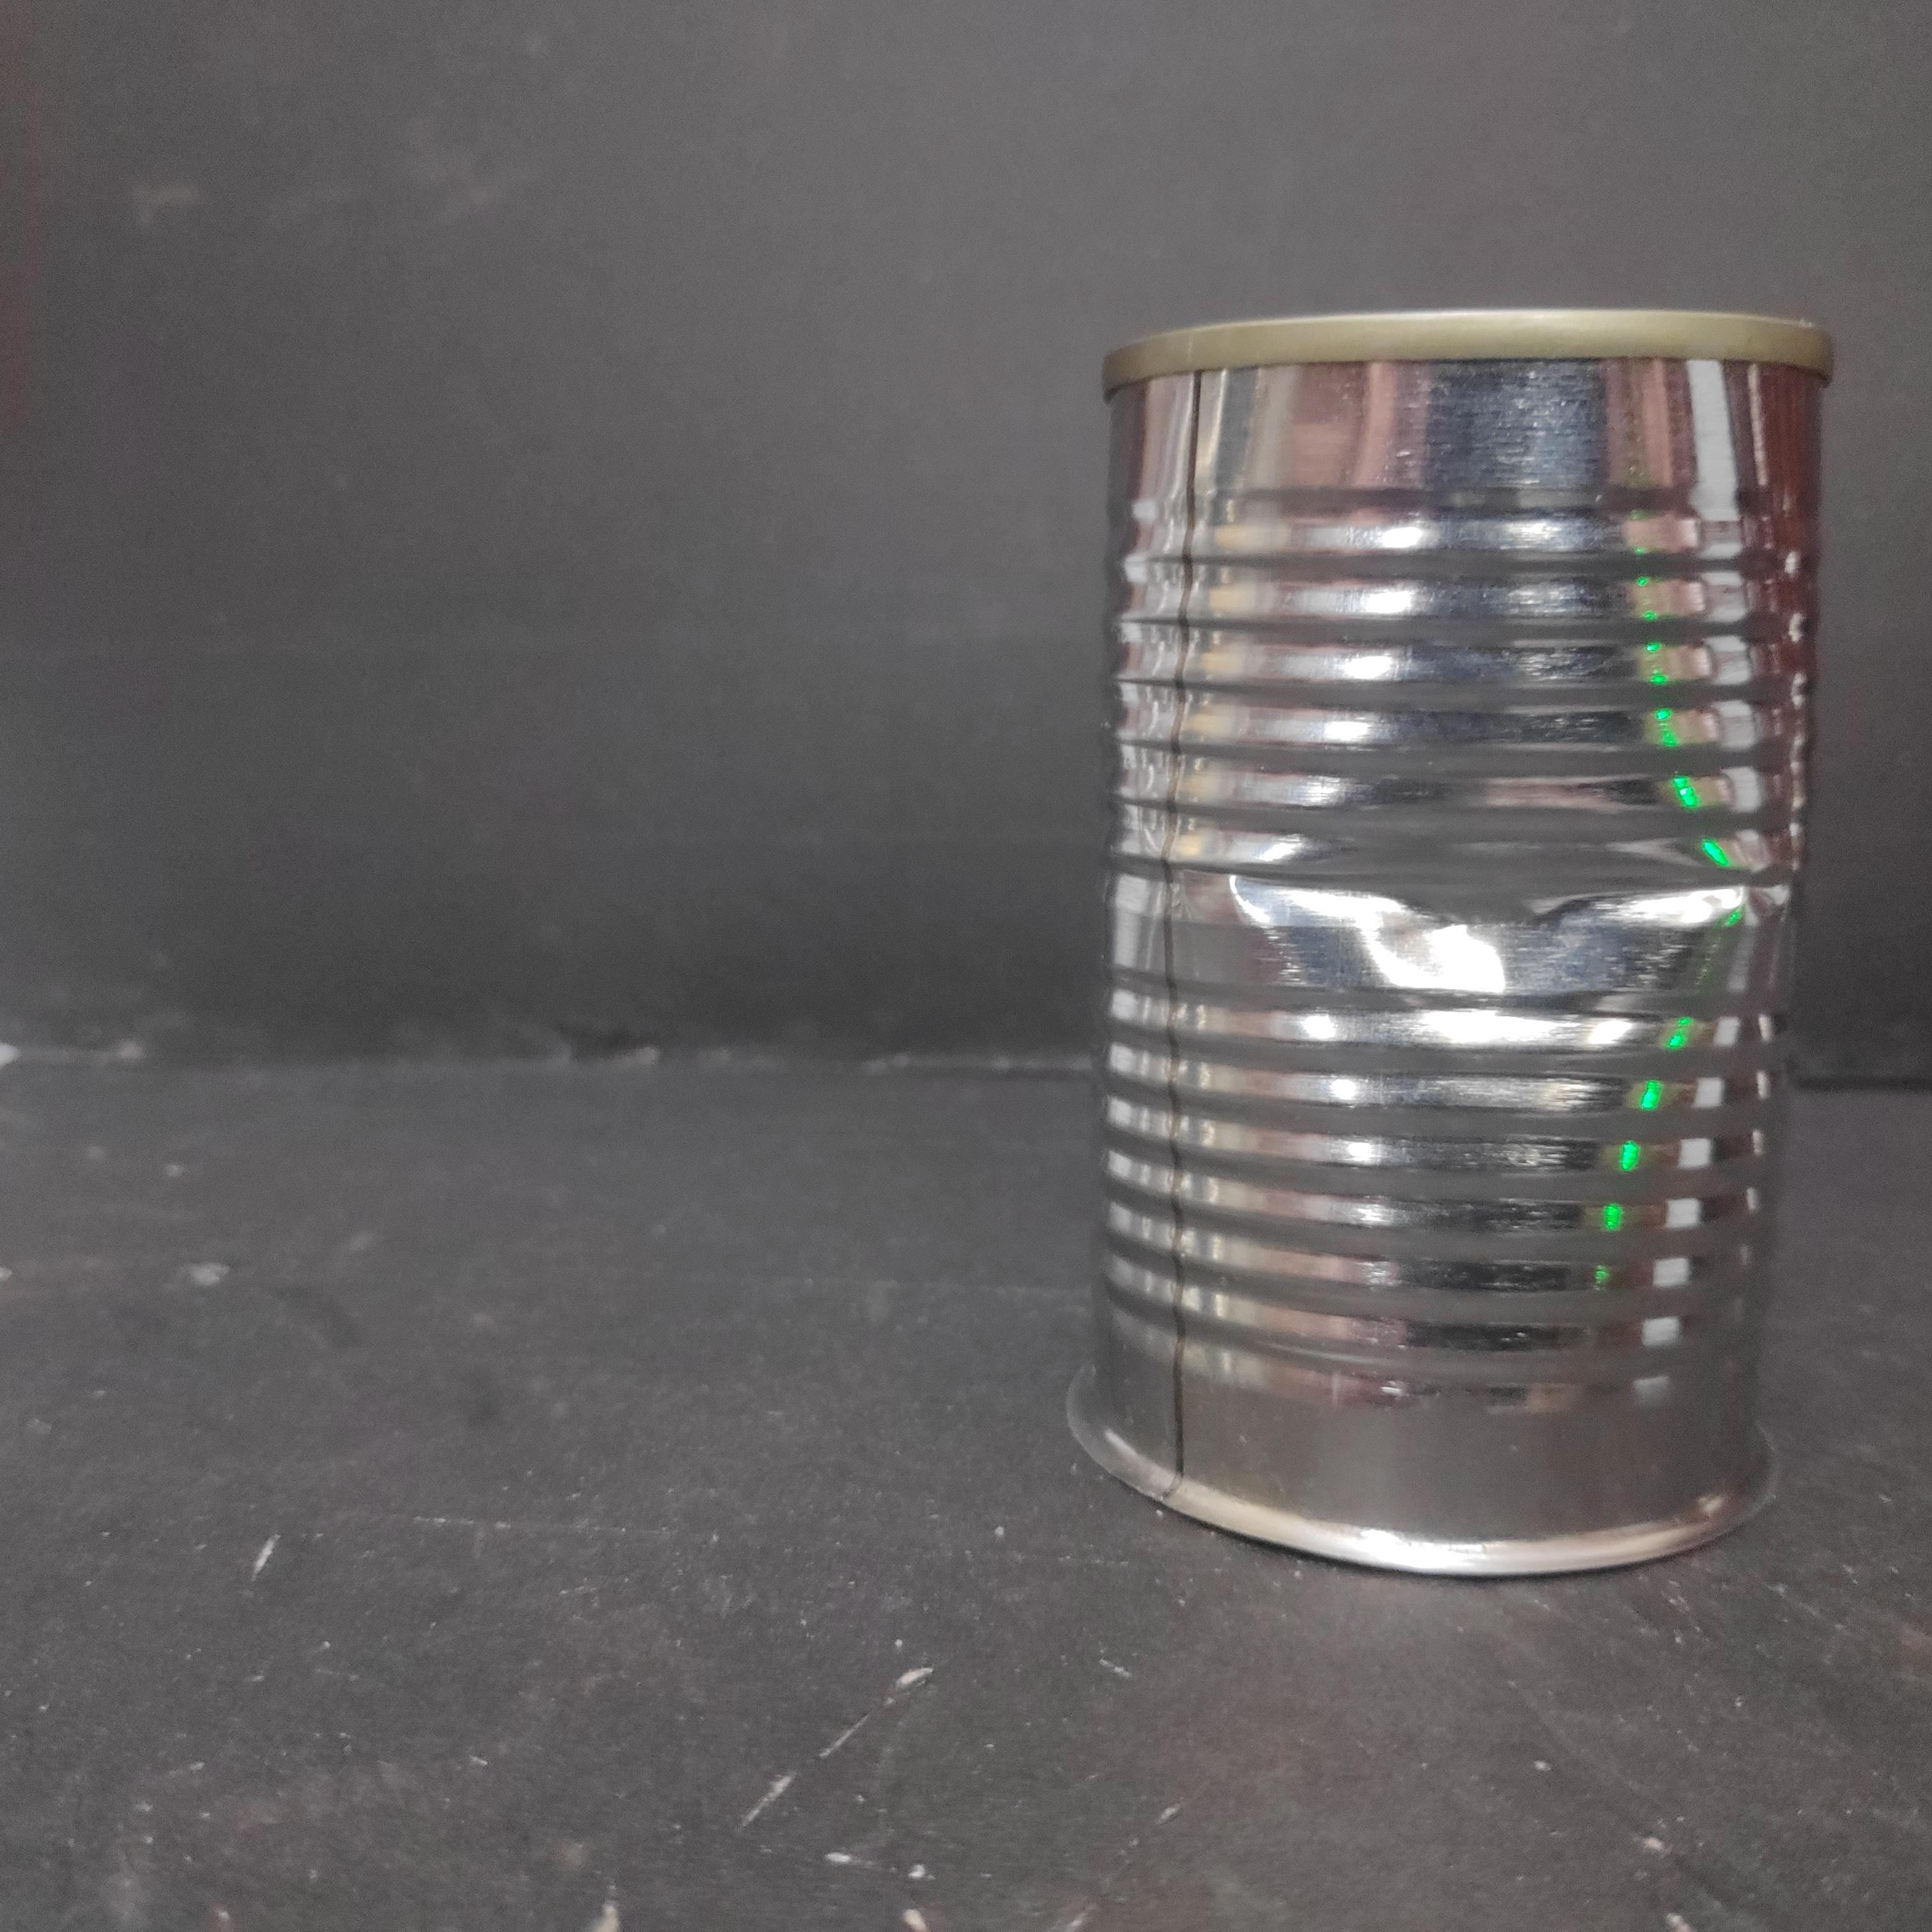Minor Defect: (1085, 295, 1844, 1592)
